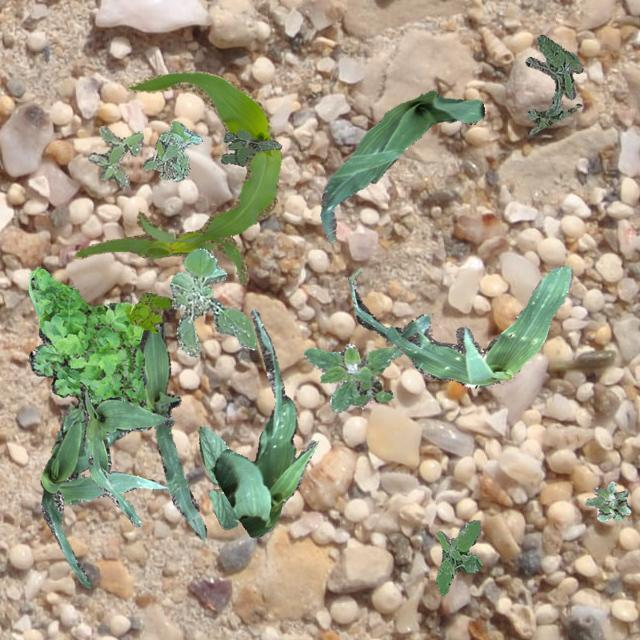crop: (74, 70, 280, 284), (347, 264, 572, 386), (320, 90, 483, 242), (210, 308, 316, 536), (39, 418, 168, 588), (138, 320, 206, 540), (80, 388, 174, 526), (197, 426, 240, 528)
weed: (28, 266, 150, 410), (168, 248, 255, 356), (302, 342, 402, 412), (524, 34, 582, 134), (142, 120, 202, 180), (88, 125, 142, 187), (436, 518, 480, 594), (220, 128, 280, 166), (124, 292, 170, 332), (584, 480, 630, 520), (50, 400, 84, 452)
